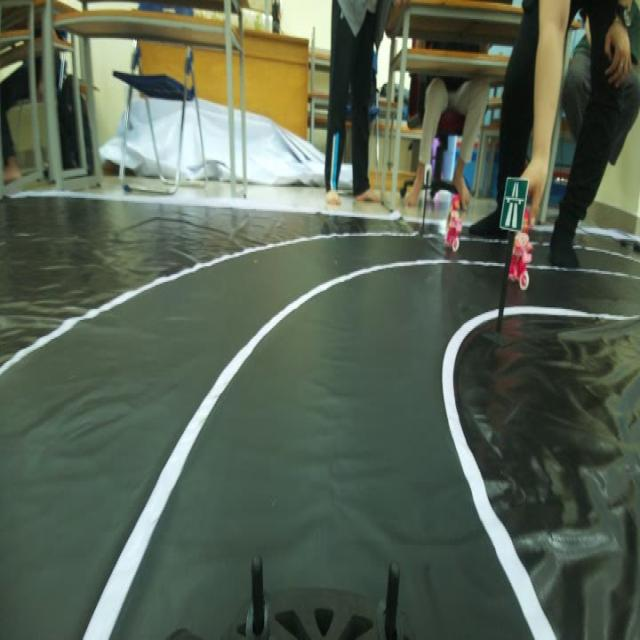highway_entry: (494, 174, 528, 239)
